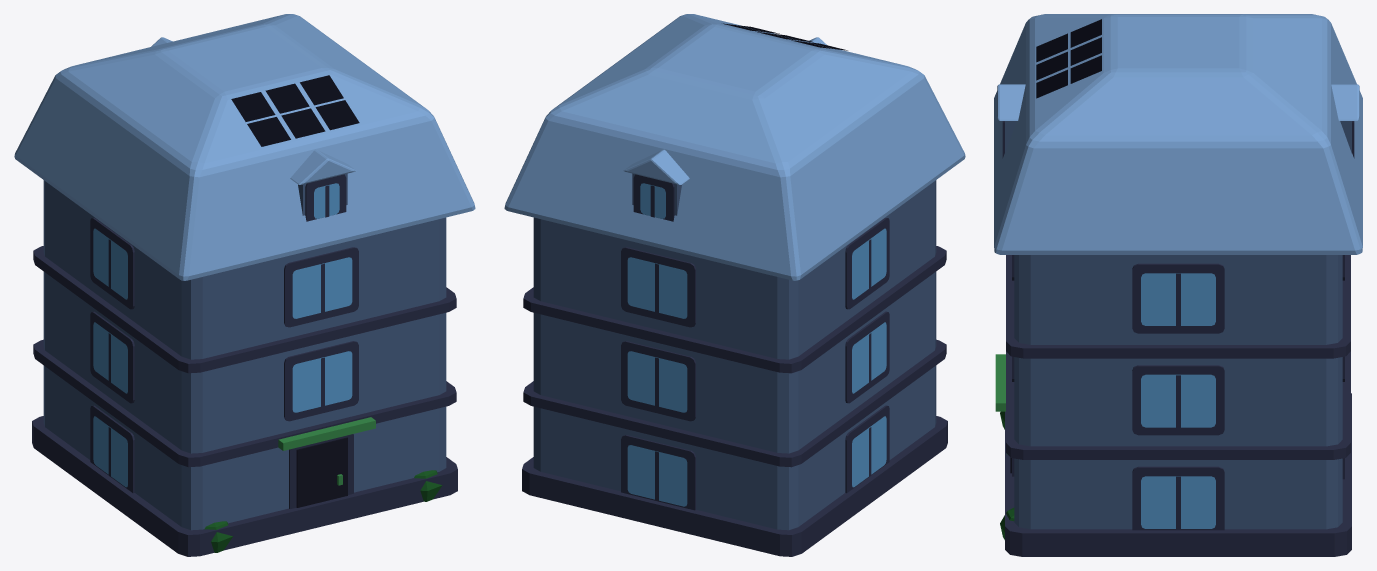
The model's file is house-1x1-3f-mansard-b-solar.glb.
3 renders of one model, left to right at view 1: azimuth 30°, elevation 25°; view 2: azimuth 150°, elevation 25°; view 3: azimuth 270°, elevation 25°, orthographic. The views are drawn at different scales.
Visible parts, largest first — view 1: house-1x1-3f-mansard-b-solar; view 2: house-1x1-3f-mansard-b-solar; view 3: house-1x1-3f-mansard-b-solar.
Boxes of the visible parts, x1,y1,x2,y2 form: house-1x1-3f-mansard-b-solar: (14, 14, 475, 556); house-1x1-3f-mansard-b-solar: (504, 14, 965, 556); house-1x1-3f-mansard-b-solar: (994, 14, 1362, 556).
Bounding box in the file's own units: 0.9876 × 1.3 × 0.9876.
1 material, 1 textured.
